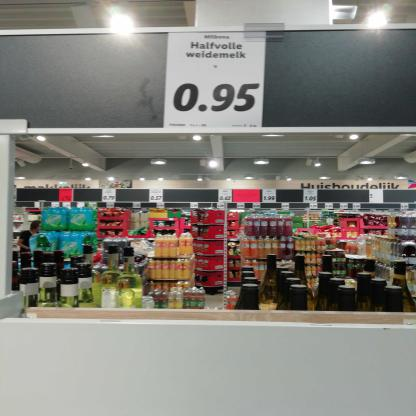prtg: (164, 32, 267, 129)
